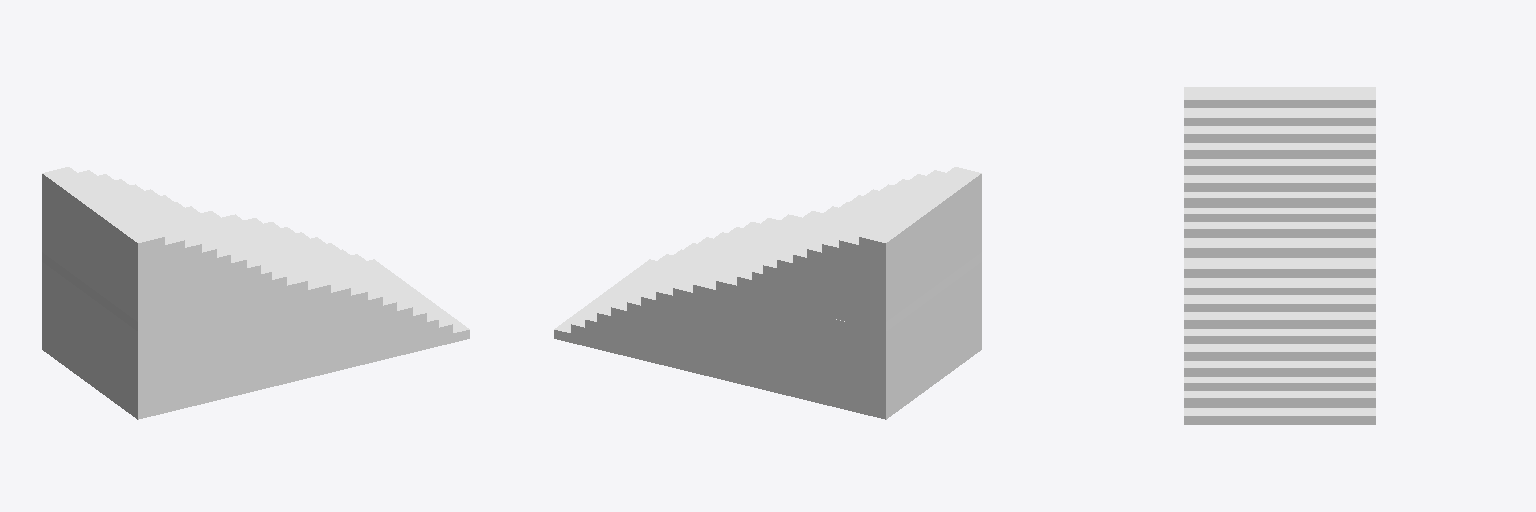
Rendered from steps.obj.
The picture shows the model from 3 angles: view 1: azimuth 30°, elevation 25°; view 2: azimuth 150°, elevation 25°; view 3: azimuth 270°, elevation 25°; orthographic projection.
Visible parts, largest first — view 1: def_surf_mat; view 2: def_surf_mat; view 3: def_surf_mat.
Part boxes in pixels (x1,y1,x2,y2): def_surf_mat: (42, 167, 469, 419); def_surf_mat: (554, 167, 981, 419); def_surf_mat: (1184, 87, 1375, 424).
Size of the model in its own units: 199 by 101 by 99.51.